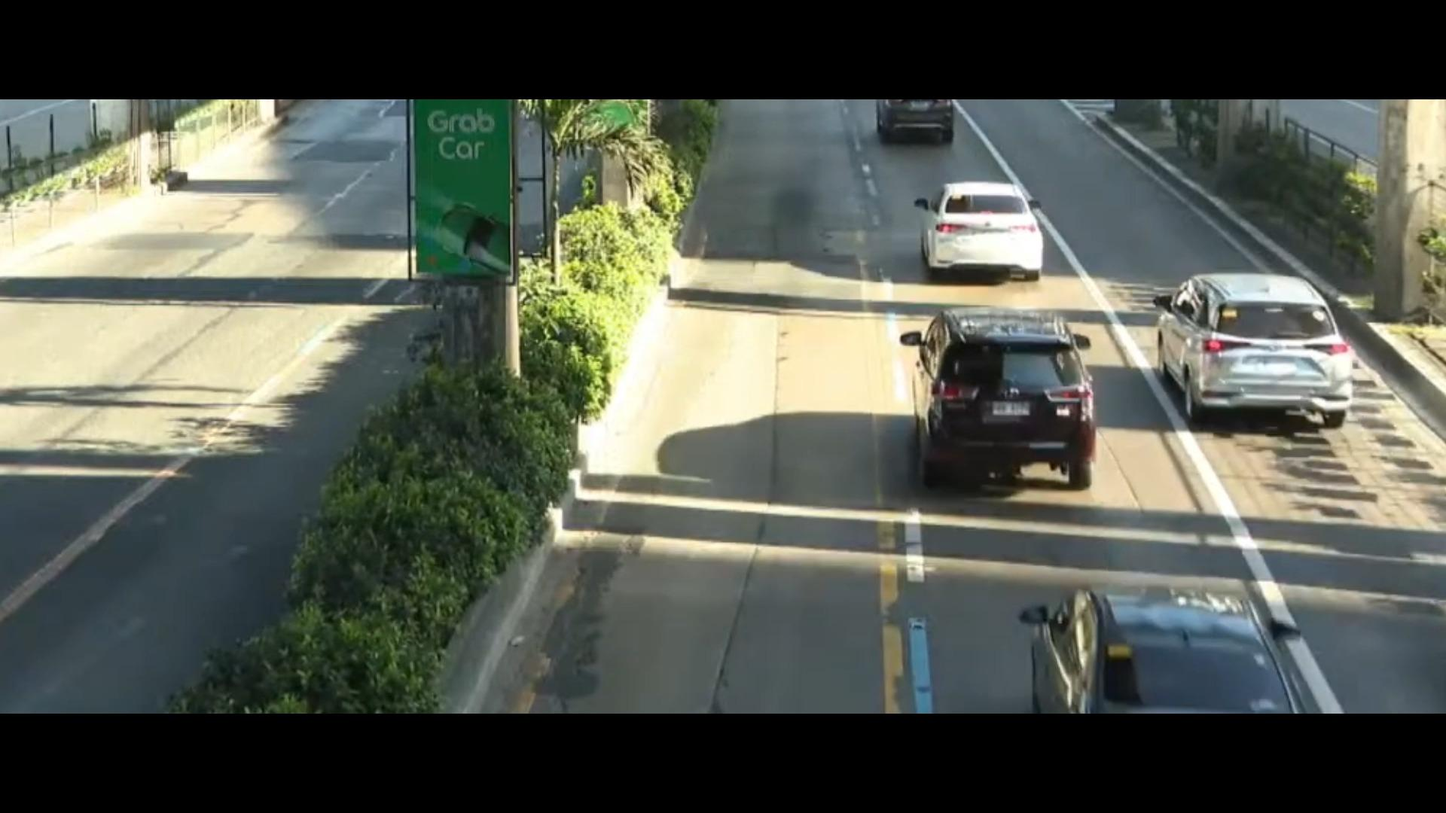SUV: (873, 306, 1129, 500), (1148, 260, 1386, 446)
Sedan: (1000, 563, 1309, 712), (911, 157, 1070, 298)
